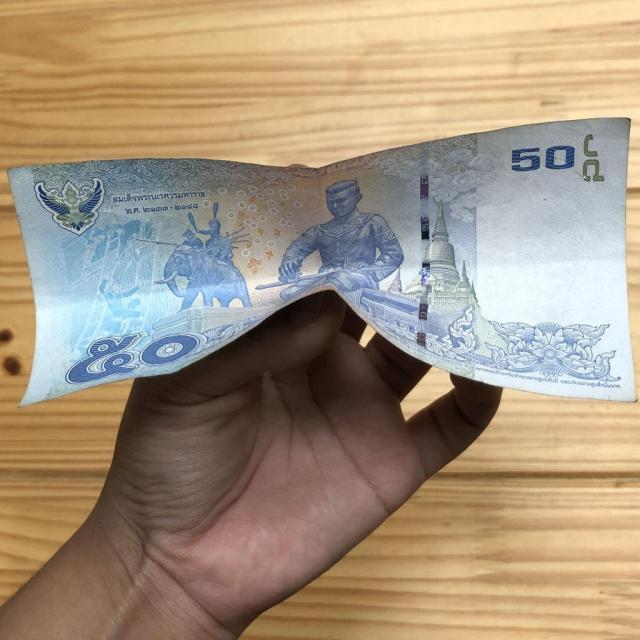THAI50: (8, 118, 636, 408)
